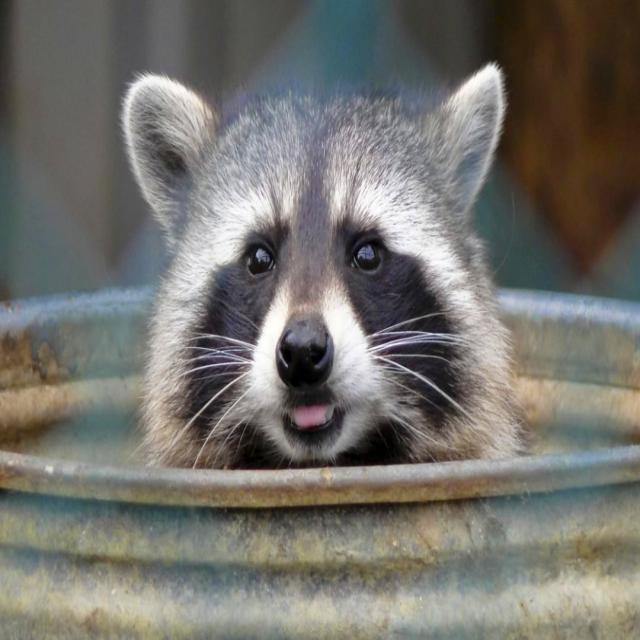raccoon: (122, 63, 522, 467)
